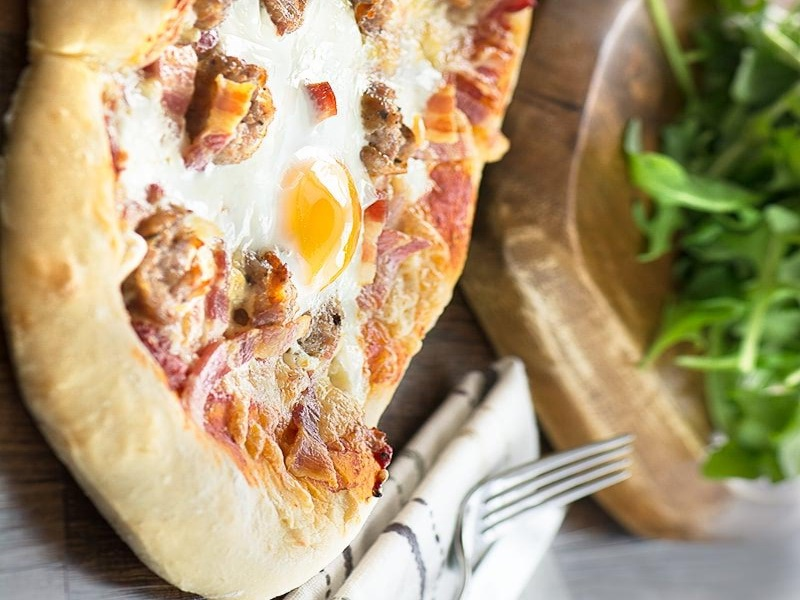oeuf: (274, 146, 366, 297)
